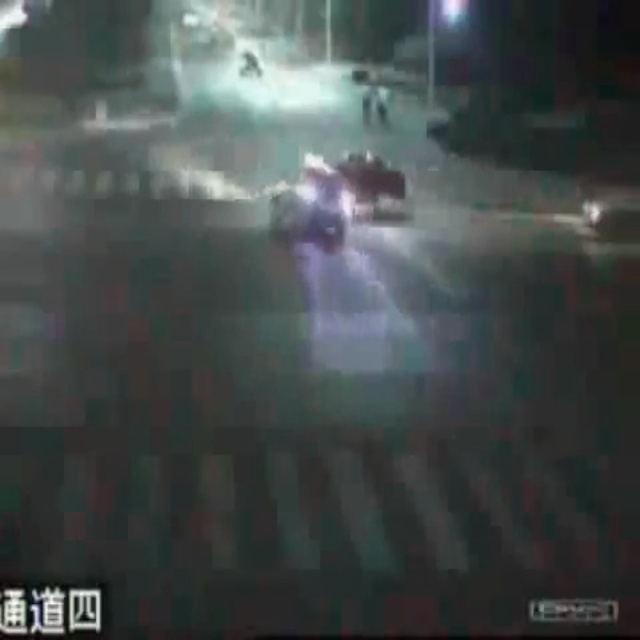acc: (268, 149, 412, 244)
